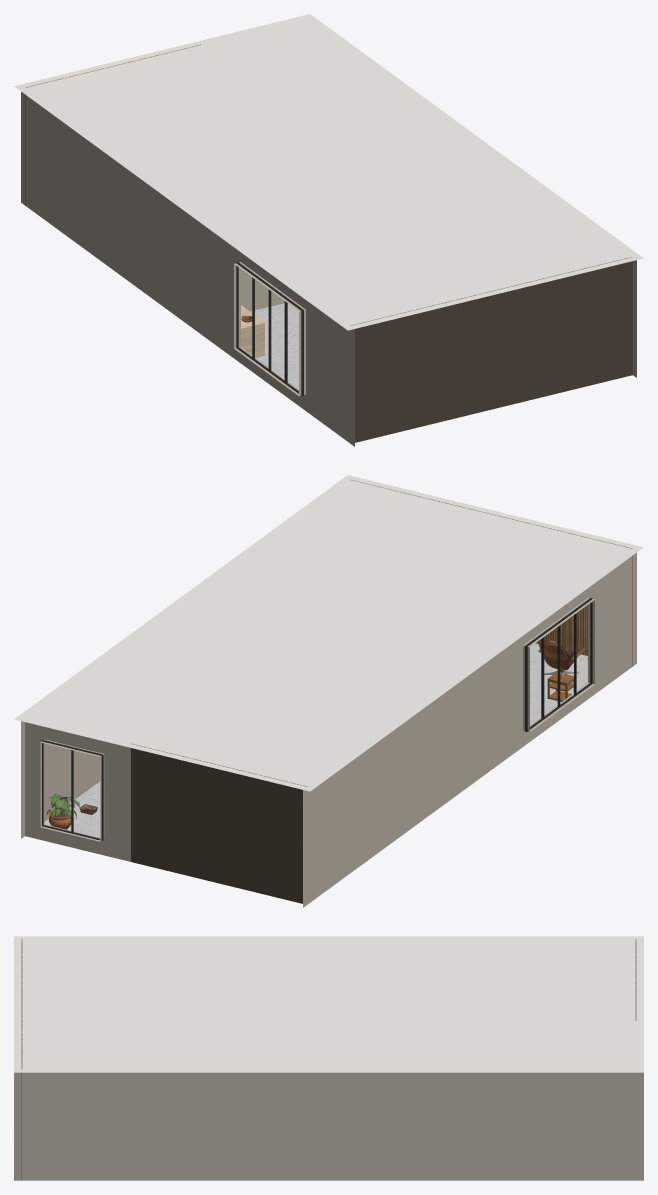
Rendered from room.glb.
3 renders of one model, top to bottom at view 1: azimuth 30°, elevation 25°; view 2: azimuth 150°, elevation 25°; view 3: azimuth 270°, elevation 25°, orthographic. The views are drawn at different scales.
Parts seen in each view (by area): view 1: shell, wood, furn; view 2: shell, wood, furn, decor; view 3: shell, wood.
Boxes of the visible parts, left/top/right/bottom form: shell: left=14, top=14, right=643, bottom=446; wood: left=25, top=44, right=632, bottom=442; furn: left=236, top=262, right=303, bottom=396; shell: left=14, top=475, right=643, bottom=907; wood: left=131, top=480, right=632, bottom=903; furn: left=41, top=598, right=592, bottom=841; decor: left=46, top=639, right=587, bottom=829; shell: left=14, top=936, right=643, bottom=1180; wood: left=21, top=939, right=636, bottom=1180.
Size of the model in its own units: 8.4 by 3.2 by 16.4.
26 materials, 19 textured.
